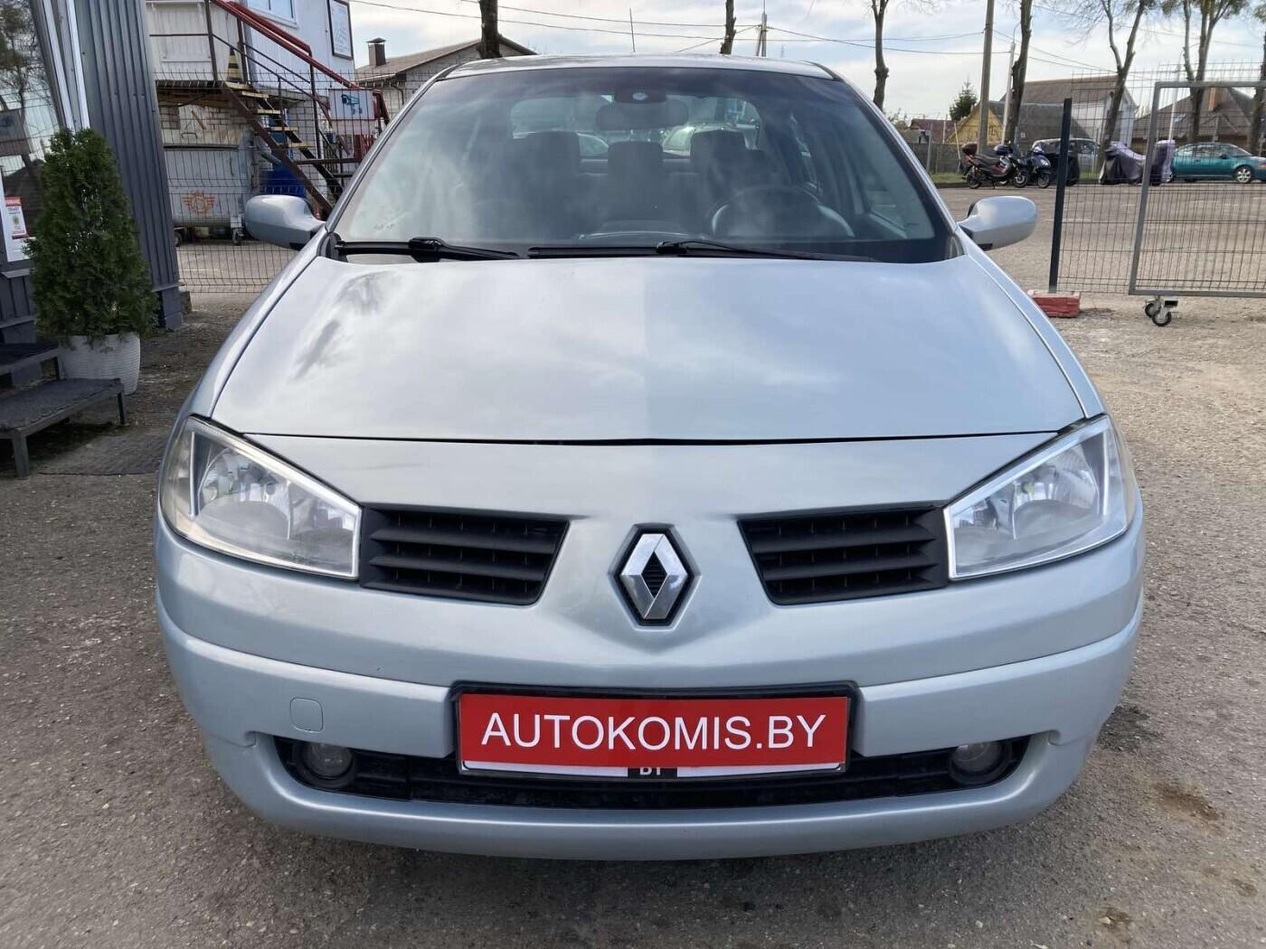Megane_2002-2006: (137, 48, 1148, 851)
